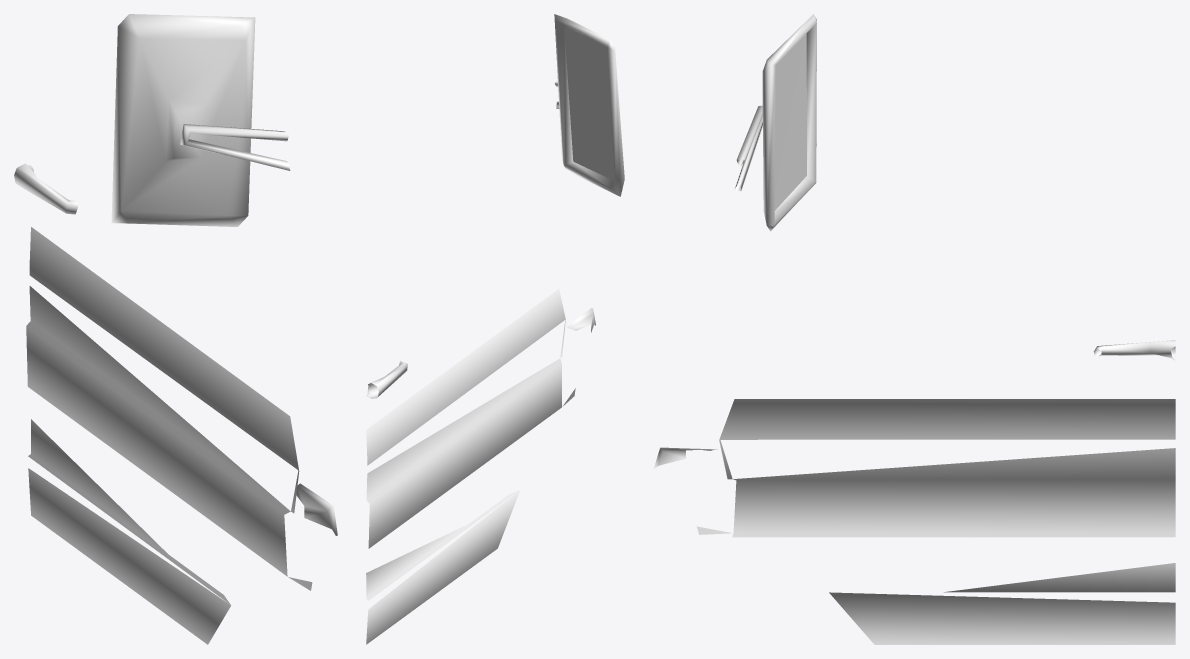
The picture shows the model from 3 angles, left to right: view 1: azimuth 30°, elevation 25°; view 2: azimuth 150°, elevation 25°; view 3: azimuth 270°, elevation 25°; orthographic projection. The views are drawn at different scales.
Size of the model in its own units: 0.1981 by 0.9928 by 0.8057.
Materials: 1 (1 with a texture image).
